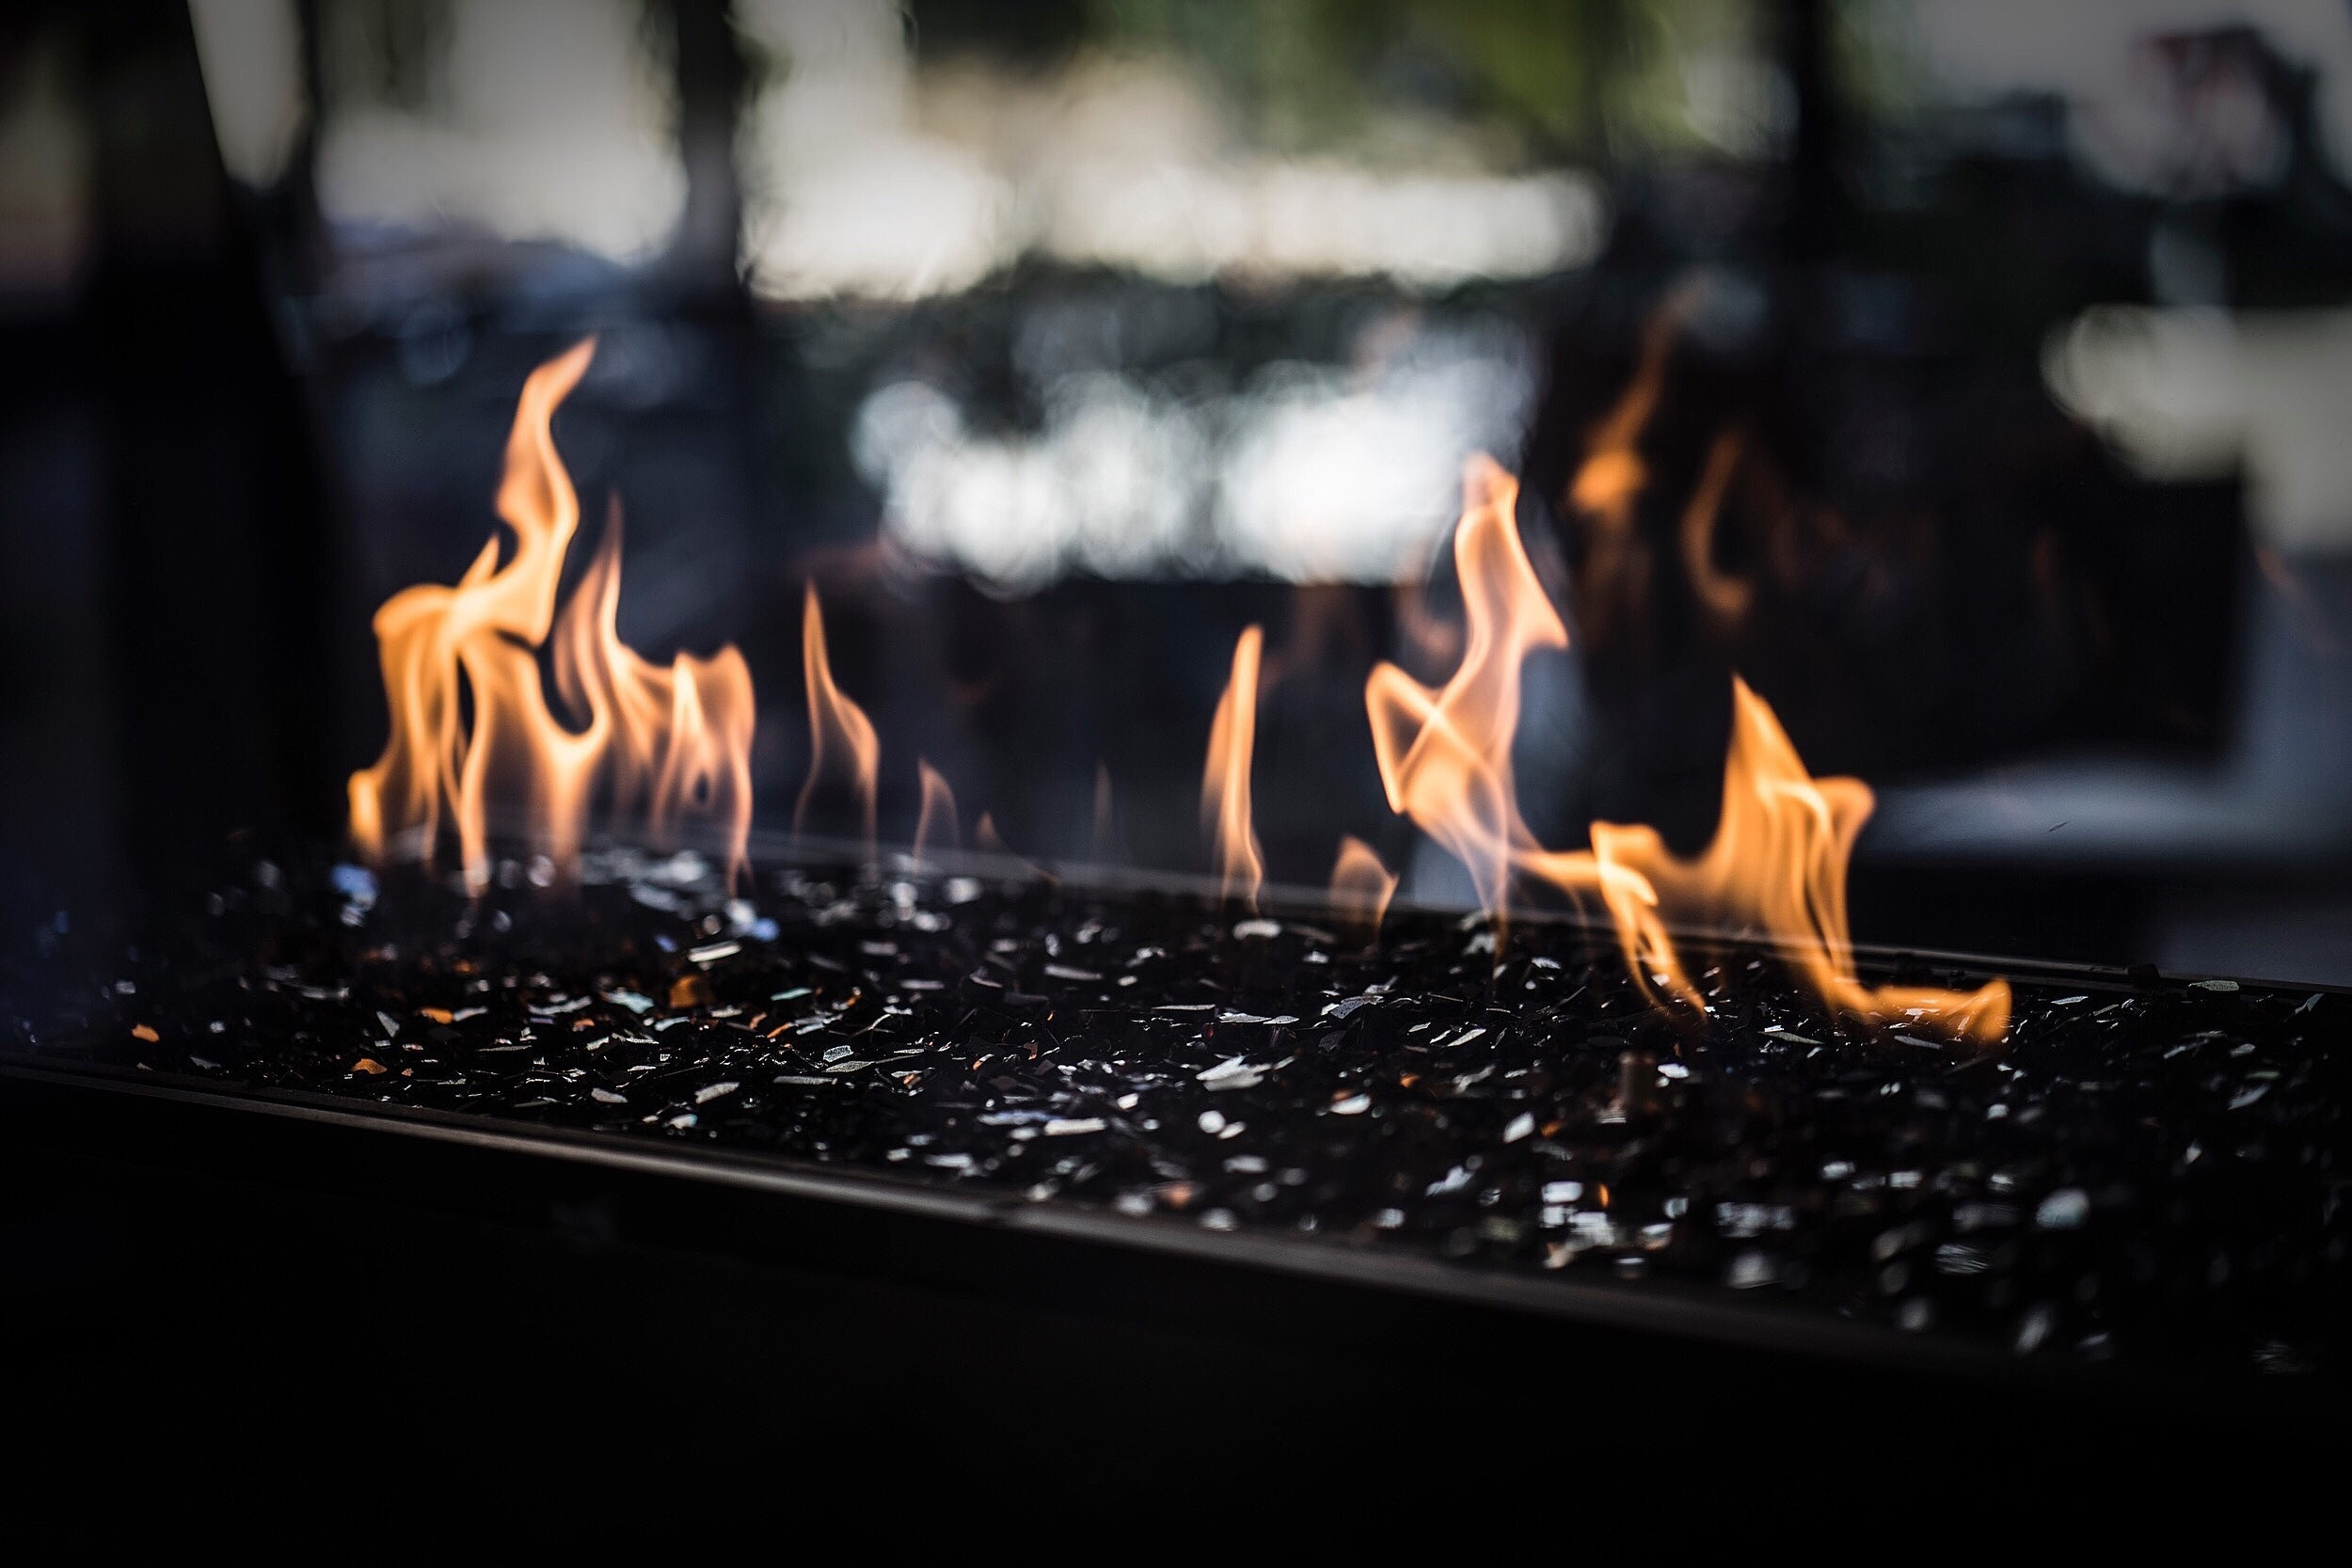fire: (343, 320, 894, 989)
